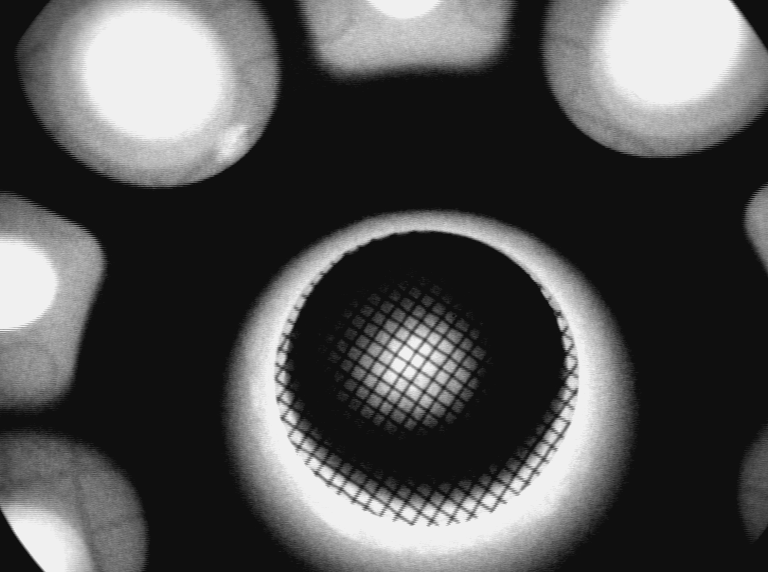defect: (212, 122, 253, 171)
